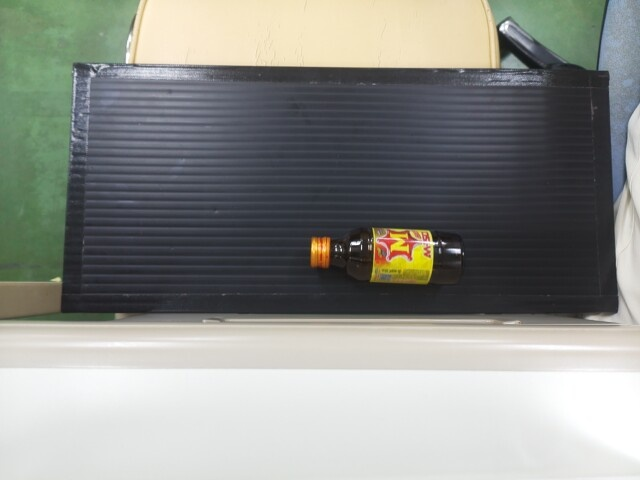glass_bottle: (306, 227, 462, 285)
